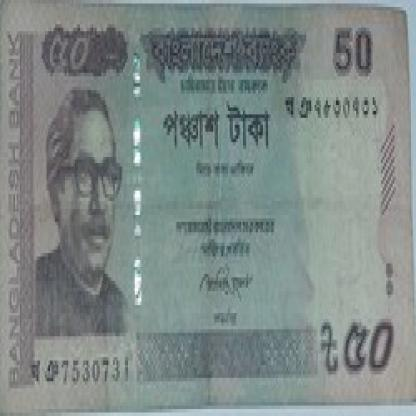Fifty taka: (333, 312, 399, 392), (39, 28, 102, 94)
